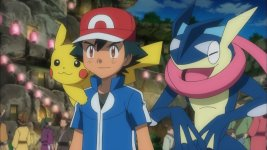greninja: (150, 2, 266, 150)
